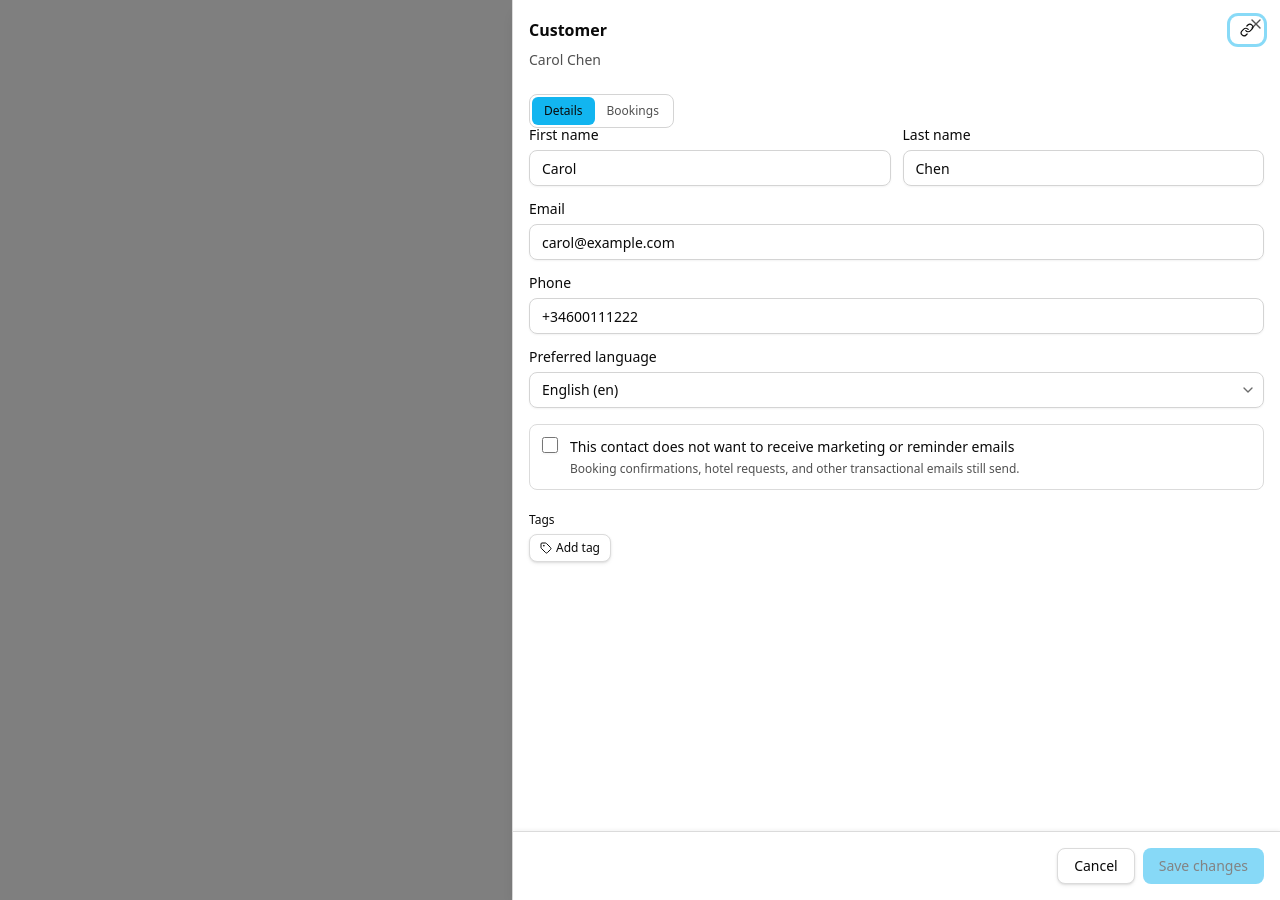
CustomerDetailSheet › Bookings tab (landr-7o2a) › shows the empty state when the contact has no bookings
Click the tab with test id "customer-tab-bookings". click: (633, 111)
box: [594,97,671,125]
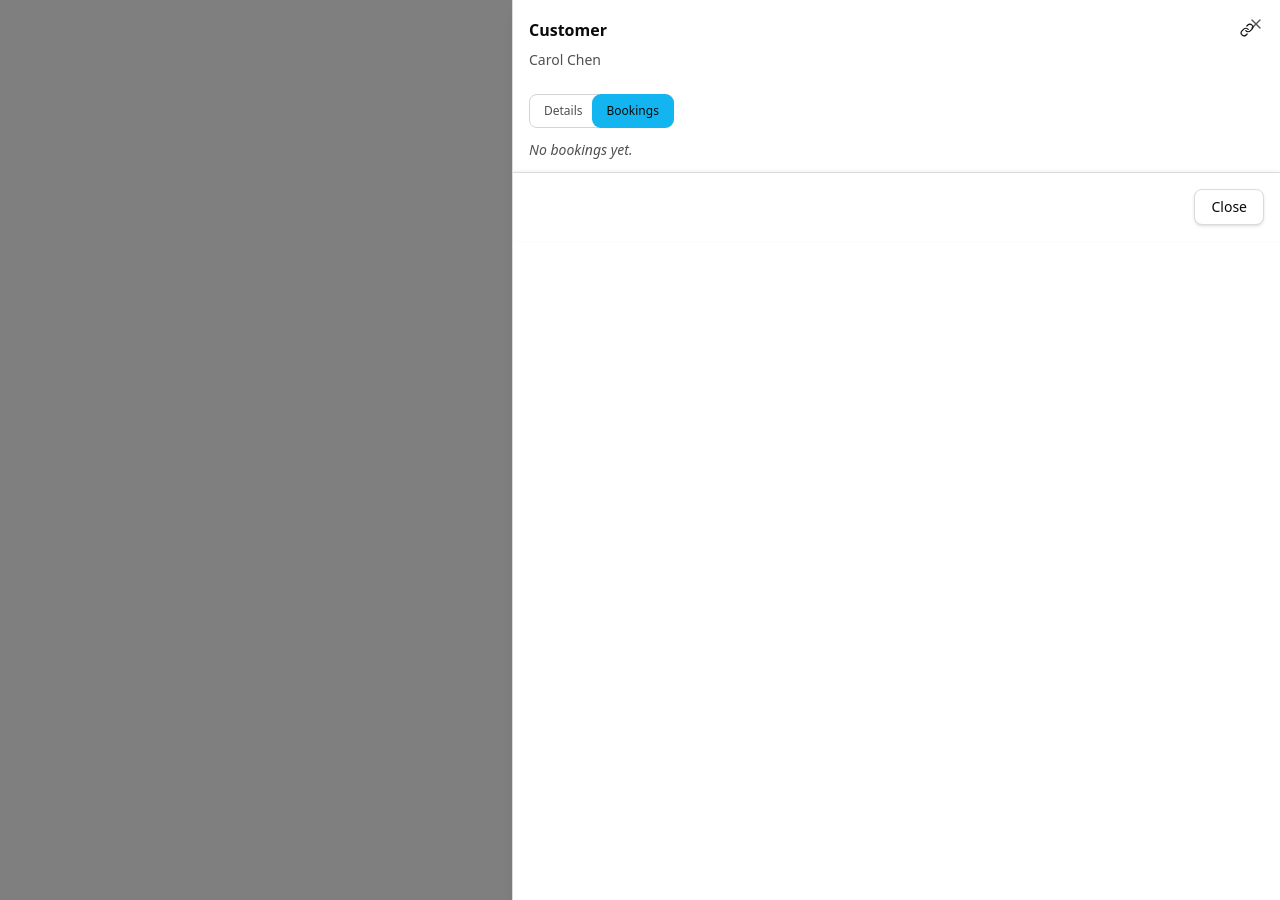
Result: the text "No bookings yet." is shown at [529,140,632,159]
